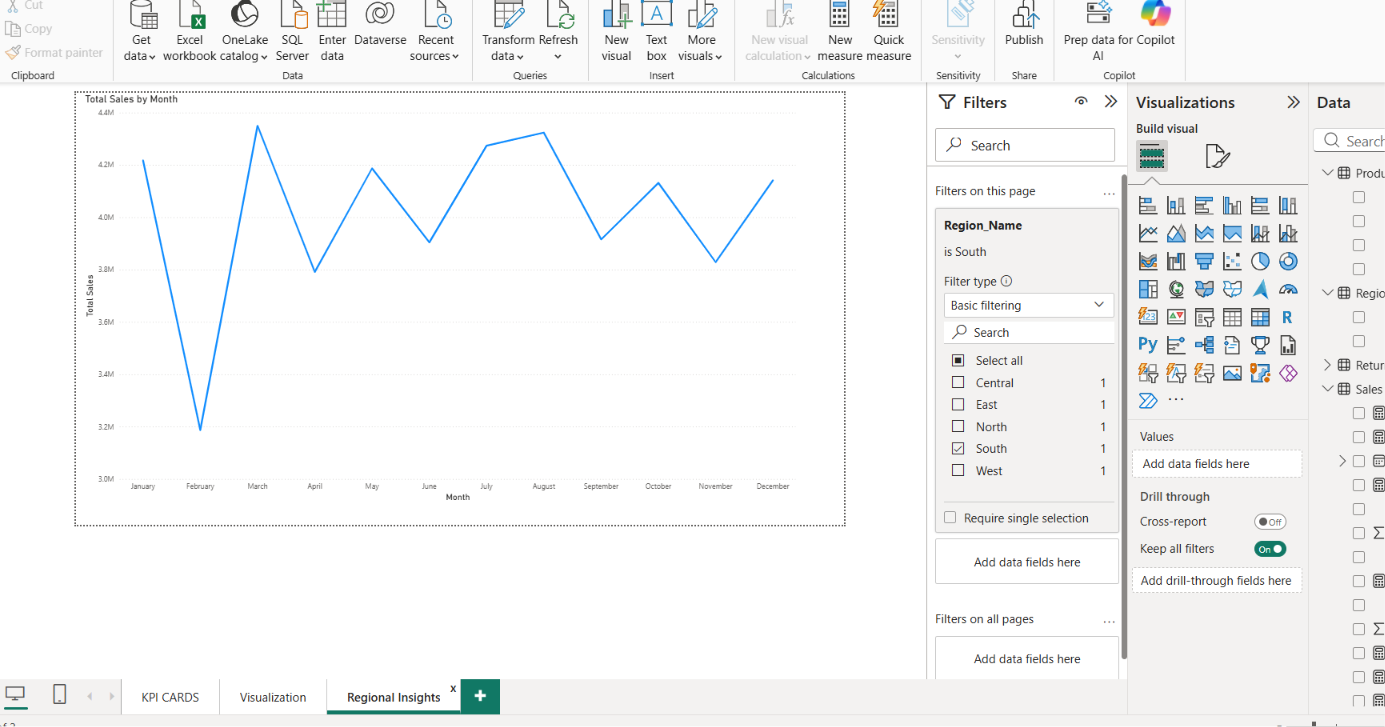

The page's visual inventory and layout, read from the dashboard file:
{"tool":"powerbi","page":{"name":"Regional Insights","canvas":[1280,720],"ordinal":2},"visuals":[{"type":"lineChart","fields":{"Category":["Sales.Date.Variation.Date Hierarchy.Month"],"Y":["Sales.Total Sales"]},"box":[10.2,0,1194.9,687.7],"z":0}]}

Visuals, with their boxes on the page's 1280x720 design canvas (x1, y1, x2, y2). These are canvas units, not pixel positions in the 1385x727 screenshot, which may show the page scaled, cropped or inside an application window:
lineChart - Sales.Date.Variation.Date Hierarchy.Month x Sales.Total Sales: 10, 0, 1205, 688
